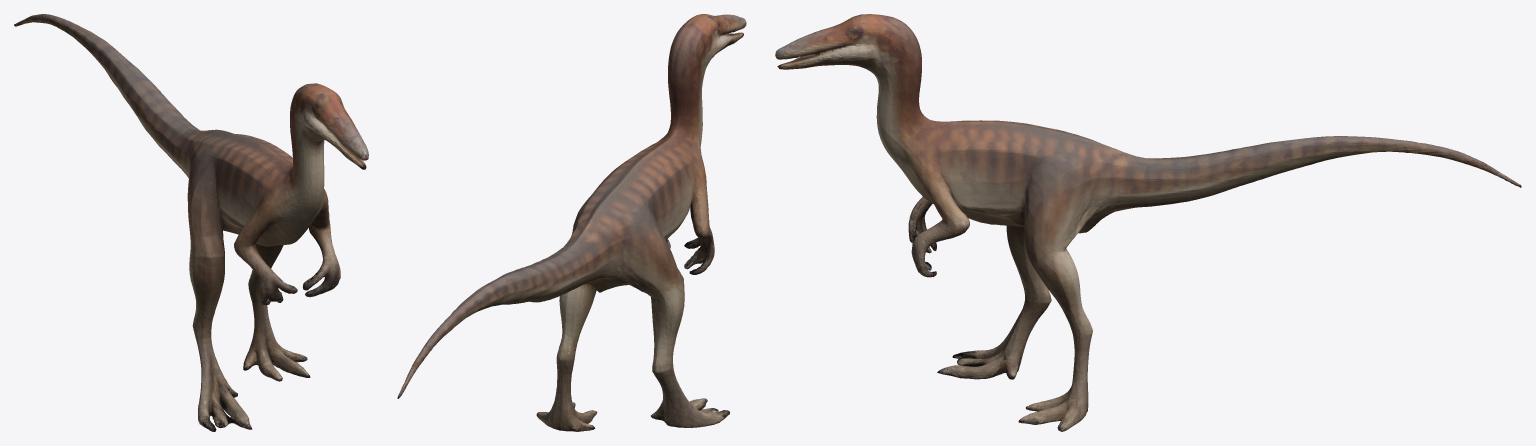
The picture shows the model from 3 angles, left to right: view 1: azimuth 30°, elevation 25°; view 2: azimuth 150°, elevation 25°; view 3: azimuth 270°, elevation 25°; orthographic projection. The views are drawn at different scales.
Visible parts, largest first — view 1: world; view 2: world; view 3: world.
Part boxes in pixels (x1,y1,x2,y2): world: [14, 14, 368, 431]; world: [397, 14, 746, 431]; world: [775, 14, 1521, 431].
Size of the model in its own units: 0.2403 by 0.5588 by 0.9986.
1 material, 1 textured.
